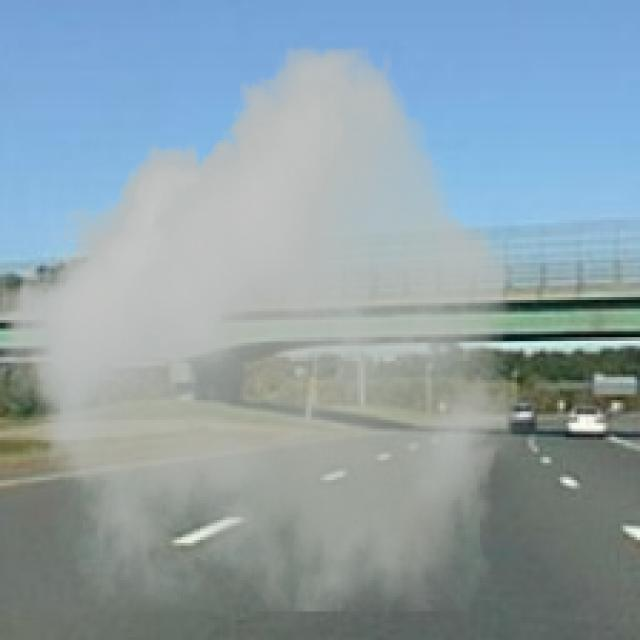smoke: (0, 46, 520, 611)
